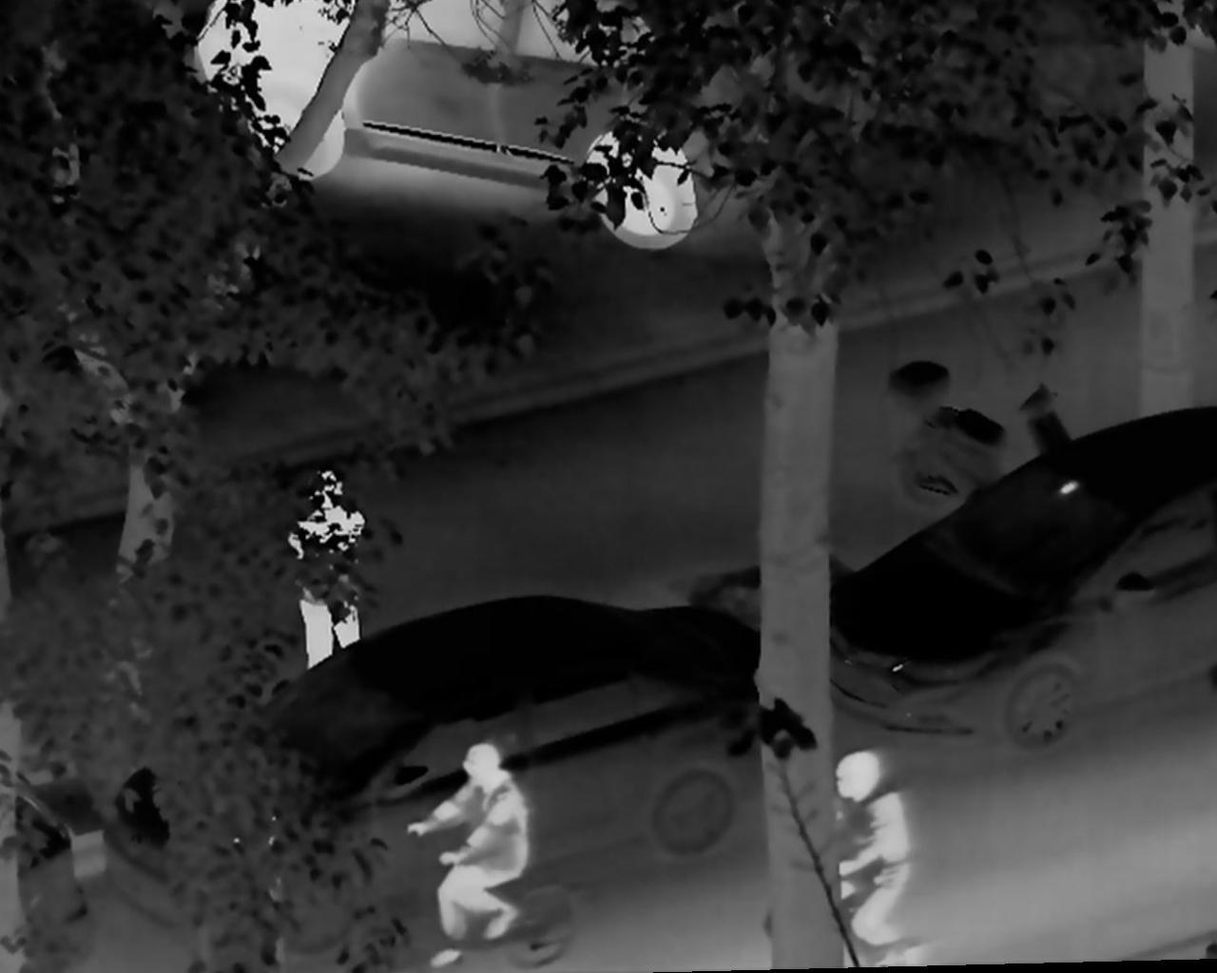person: (404, 735, 534, 973), (823, 748, 915, 973), (280, 464, 370, 675)
